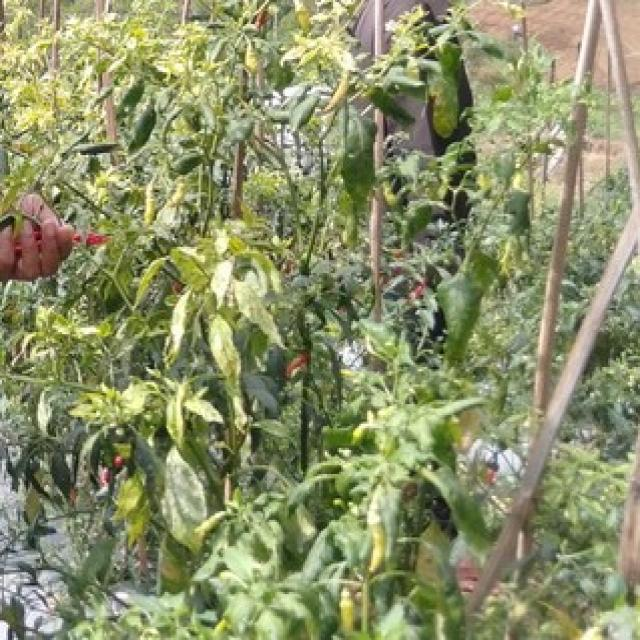virus_kuning: (202, 314, 242, 381), (157, 381, 190, 451)
